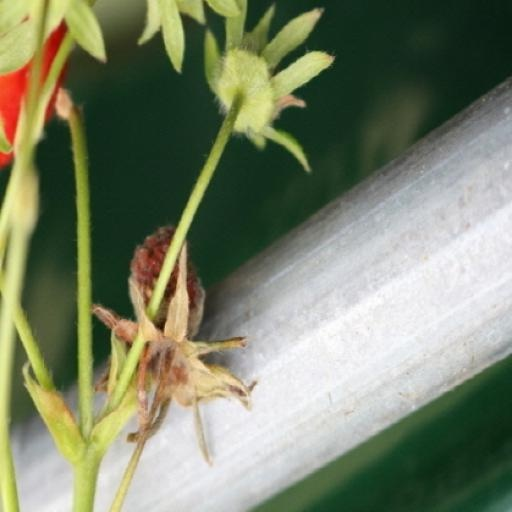Gray Mold: (253, 47, 424, 288)
